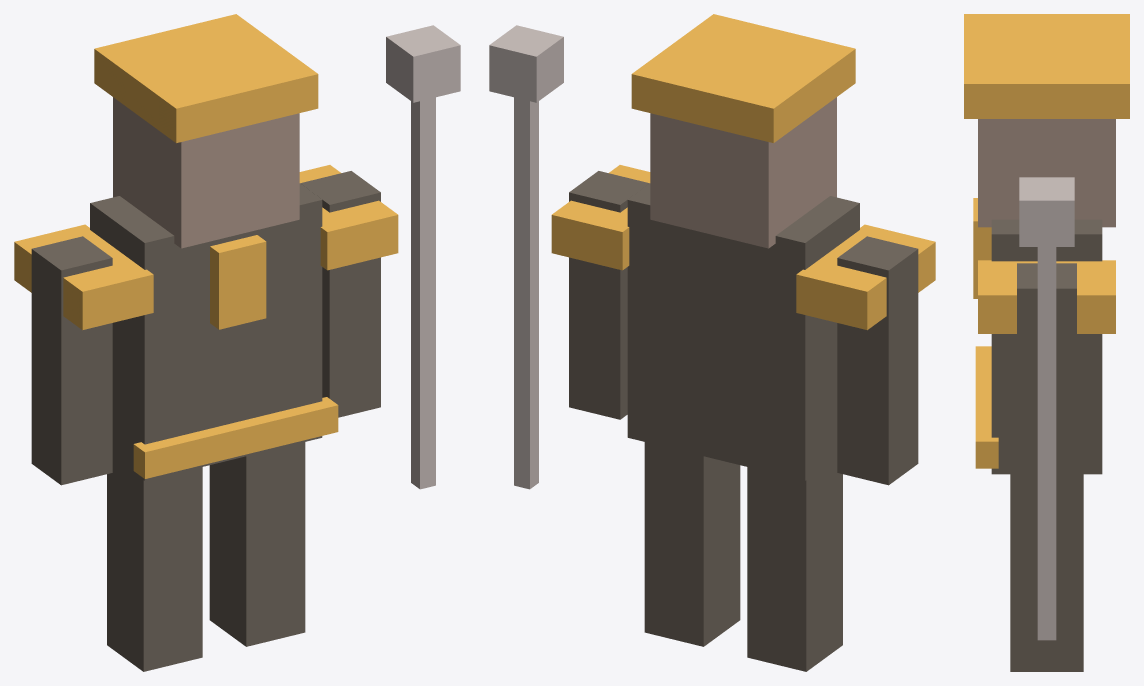
Rendered from 12_yara_voxmere_herald_at_containment.glb.
The picture shows the model from 3 angles, left to right: view 1: azimuth 30°, elevation 25°; view 2: azimuth 150°, elevation 25°; view 3: azimuth 270°, elevation 25°; orthographic projection.
Parts seen in each view (by area): view 1: Yara Voxmere, Herald at Containment; view 2: Yara Voxmere, Herald at Containment; view 3: Yara Voxmere, Herald at Containment.
Boxes of the visible parts, bbox=[...] form: Yara Voxmere, Herald at Containment: bbox=[14, 14, 460, 671]; Yara Voxmere, Herald at Containment: bbox=[489, 14, 935, 671]; Yara Voxmere, Herald at Containment: bbox=[964, 14, 1129, 671].
Bounding box in the file's own units: 1.04 × 1.43 × 0.3693.
